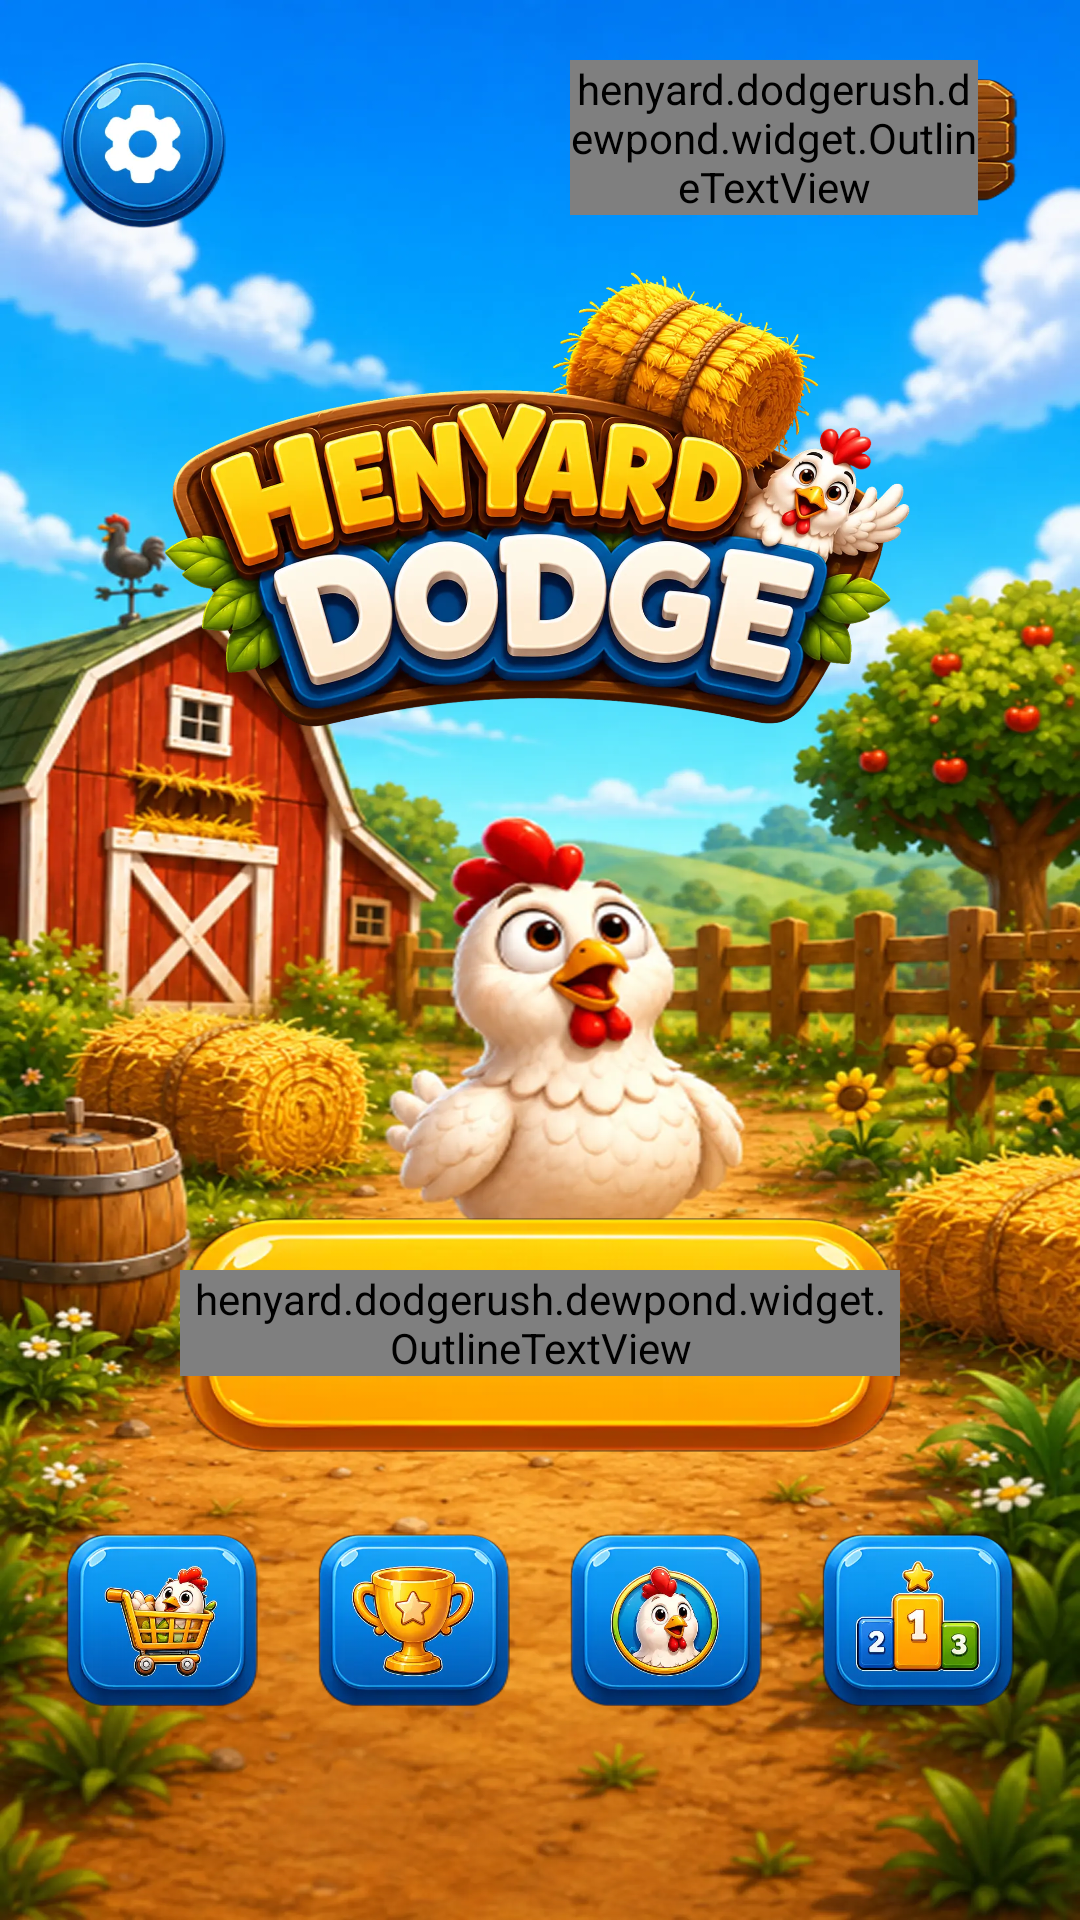

Where to tap for icons on this 1080px x 1920px app screen, as (x,y):
Achievements: (414,1620)
Leaderboard: (918,1620)
Profile: (666,1620)
Settings: (144,145)
Shop: (162,1620)
